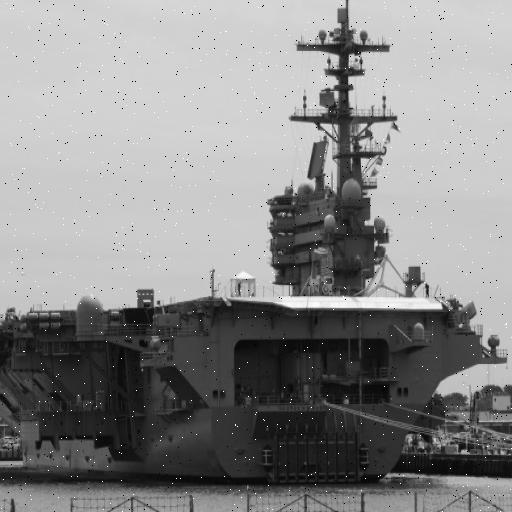Portanaves: (1, 1, 510, 486)
